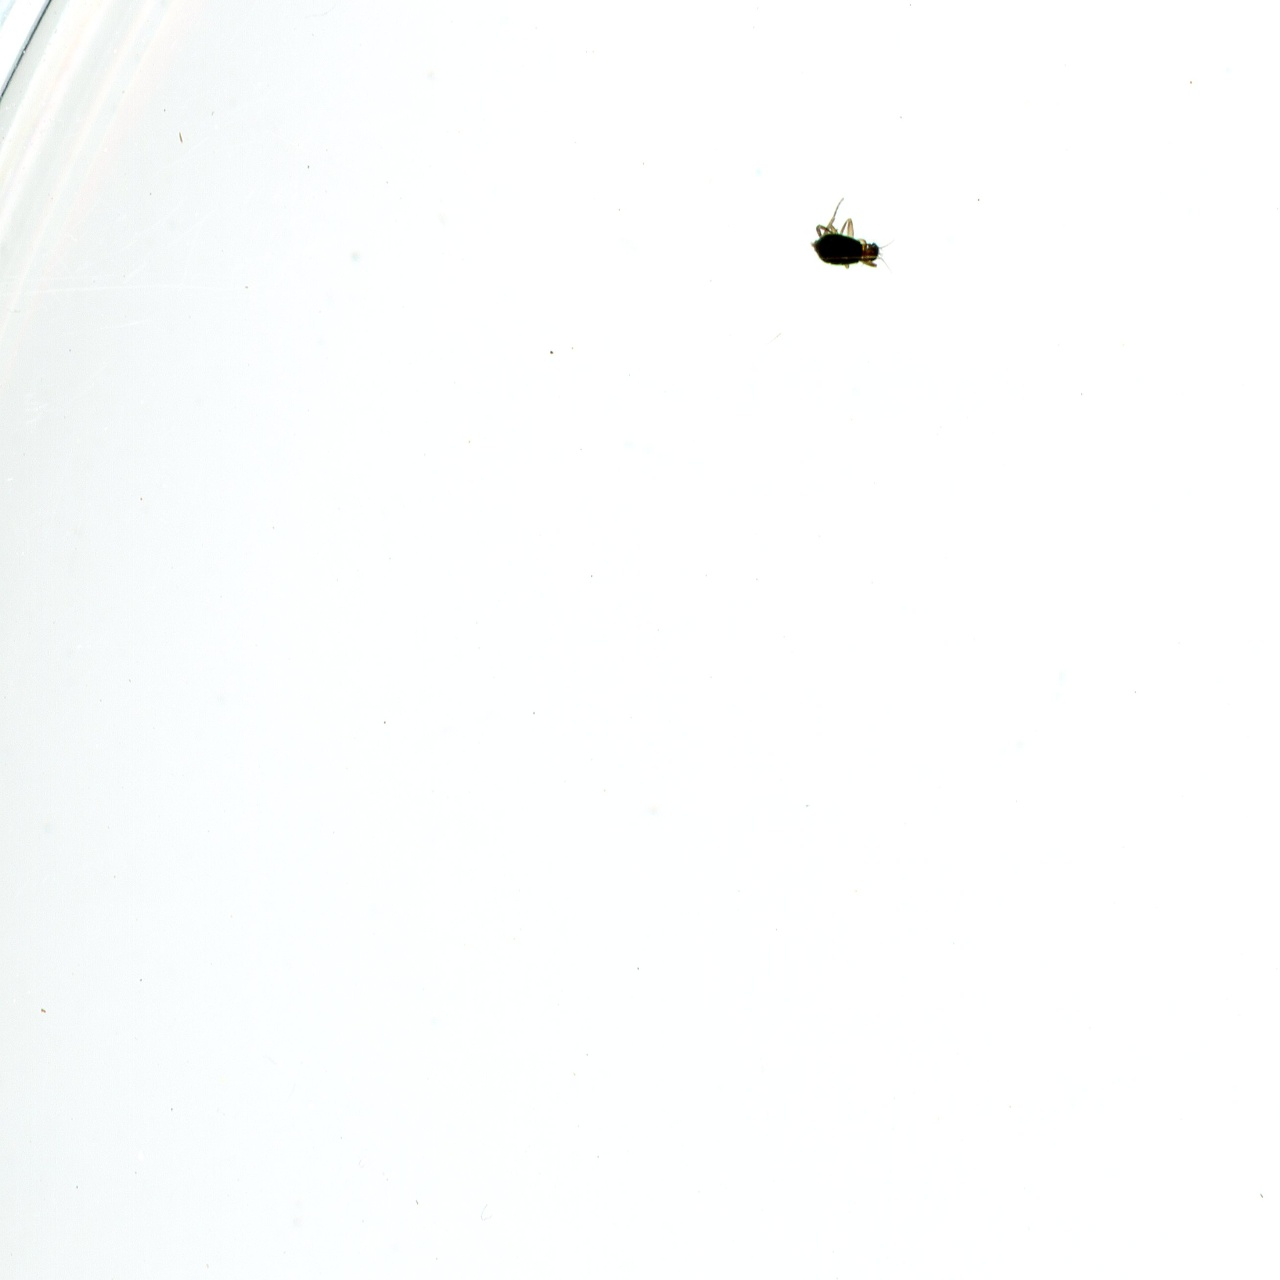arthropod: (798, 192, 910, 288)
